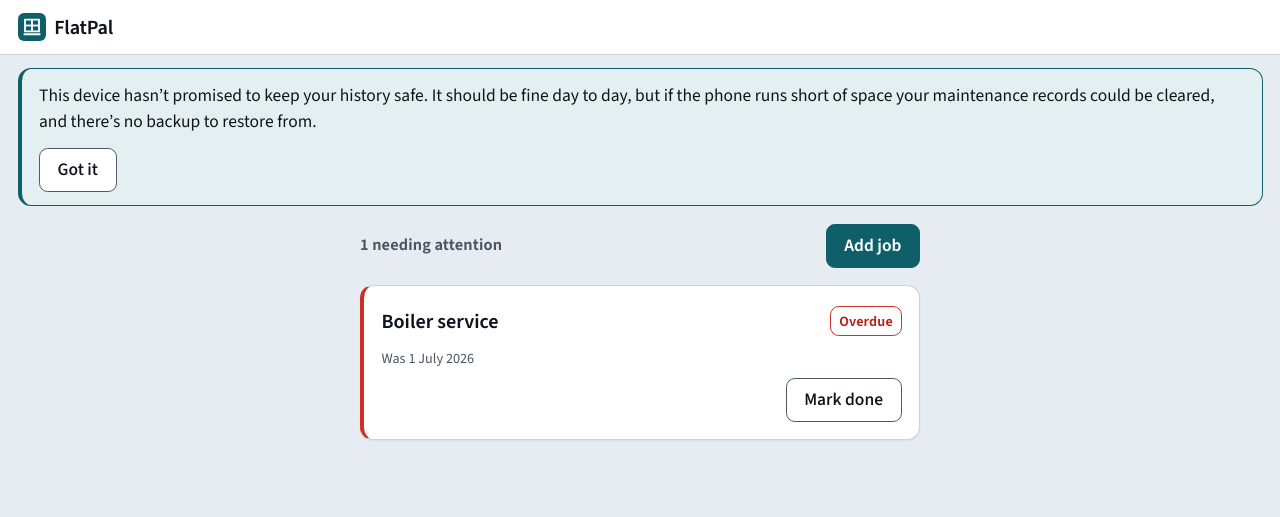
Scenario: correcting a job › opens filled in with what is already stored
Click the button "Boiler service" at (440, 321), box [382, 299, 499, 343]
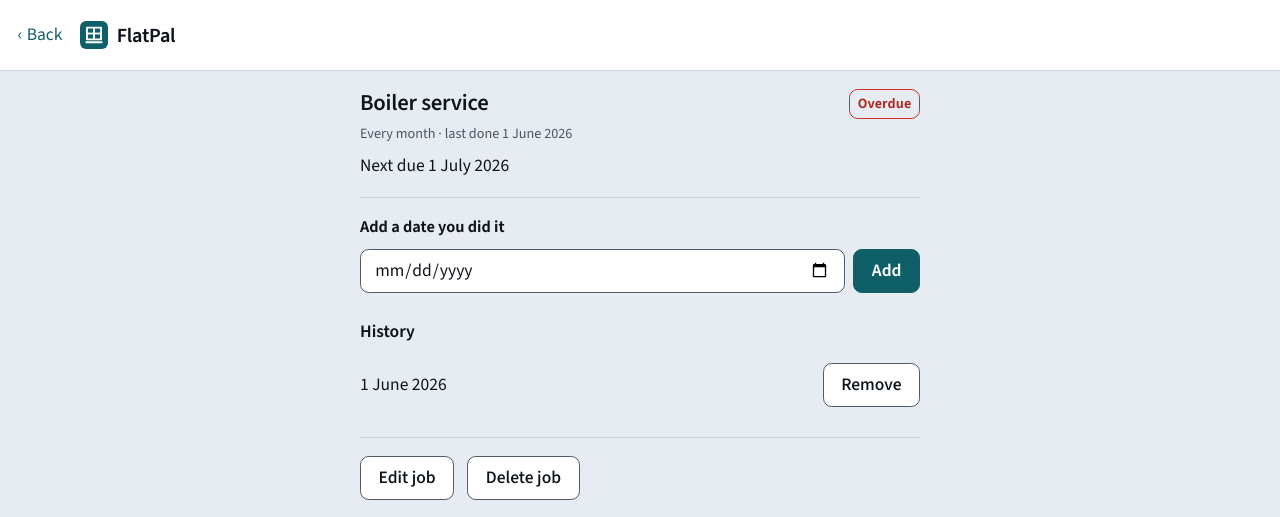
Click the button "Edit job" at (407, 478), box [360, 456, 454, 500]
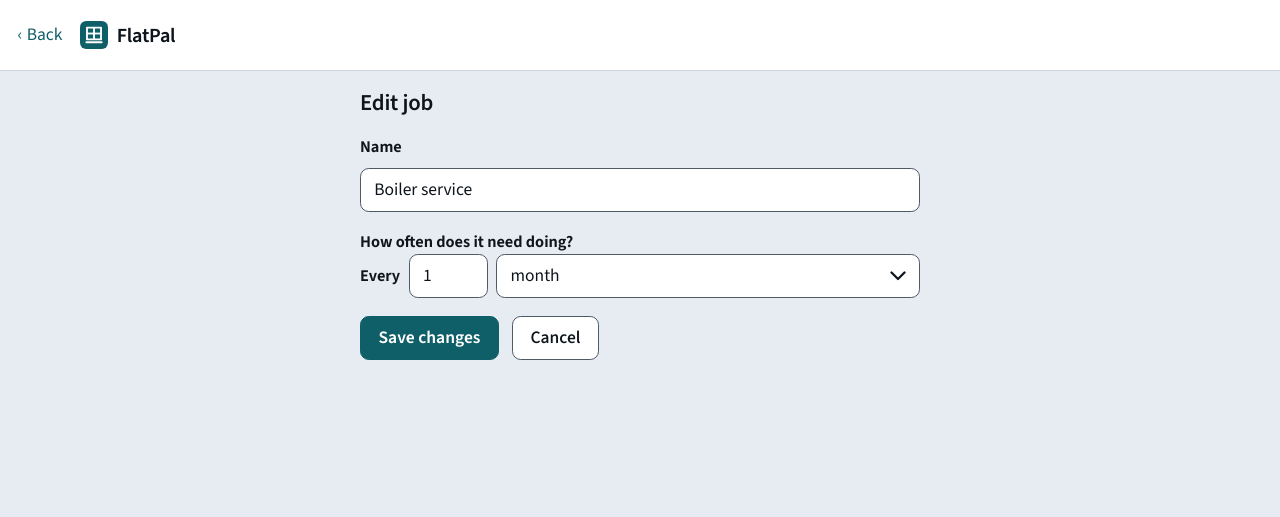
Expected: the heading "Edit job" is shown, [360, 87, 433, 119]
Expected: the field labelled "Name" holds "Boiler service", [360, 168, 920, 212]
Expected: the number field labelled "Every" holds "1", [409, 254, 488, 298]
